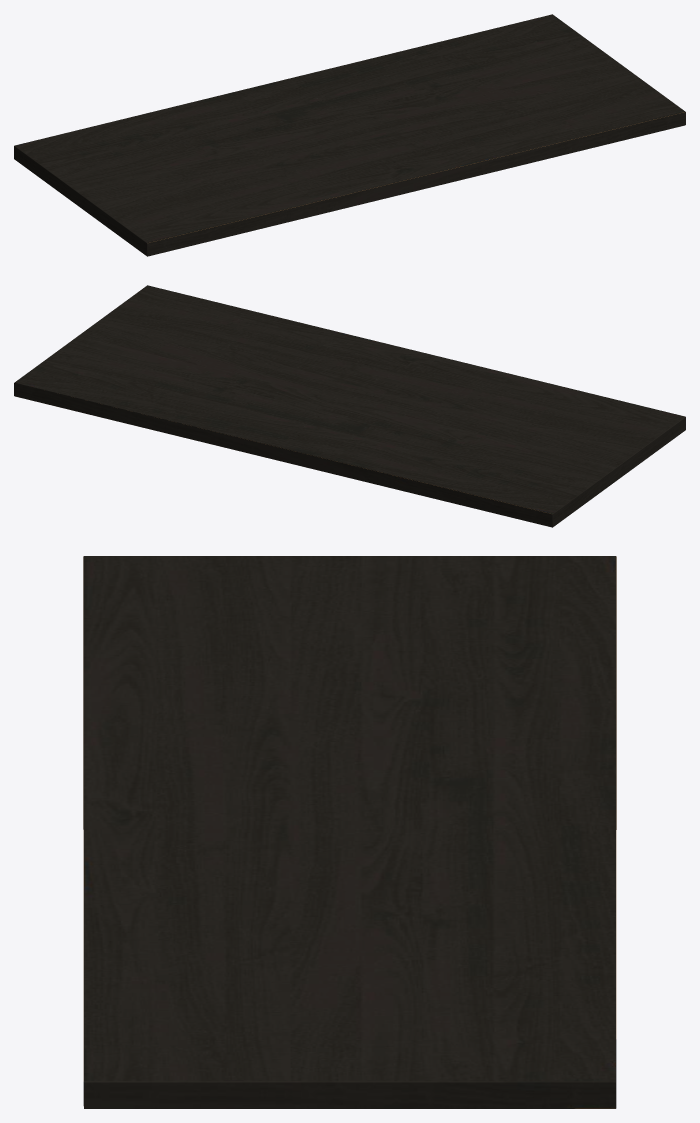
File: LAGKAPTEN_80487016.glb
3 views of the same model, one above another, from view 1: azimuth 30°, elevation 25°; view 2: azimuth 150°, elevation 25°; view 3: azimuth 270°, elevation 25° (orthographic). The views are drawn at different scales.
Parts seen in each view (by area): view 1: model; view 2: model; view 3: model.
Boxes of the visible parts, x1,y1,x2,y2 form: model: (14, 14, 685, 256); model: (14, 285, 685, 527); model: (83, 556, 616, 1108).
Size of the model in its own units: 1.4 by 0.034 by 0.5999.
Materials: 1 (1 with a texture image).
